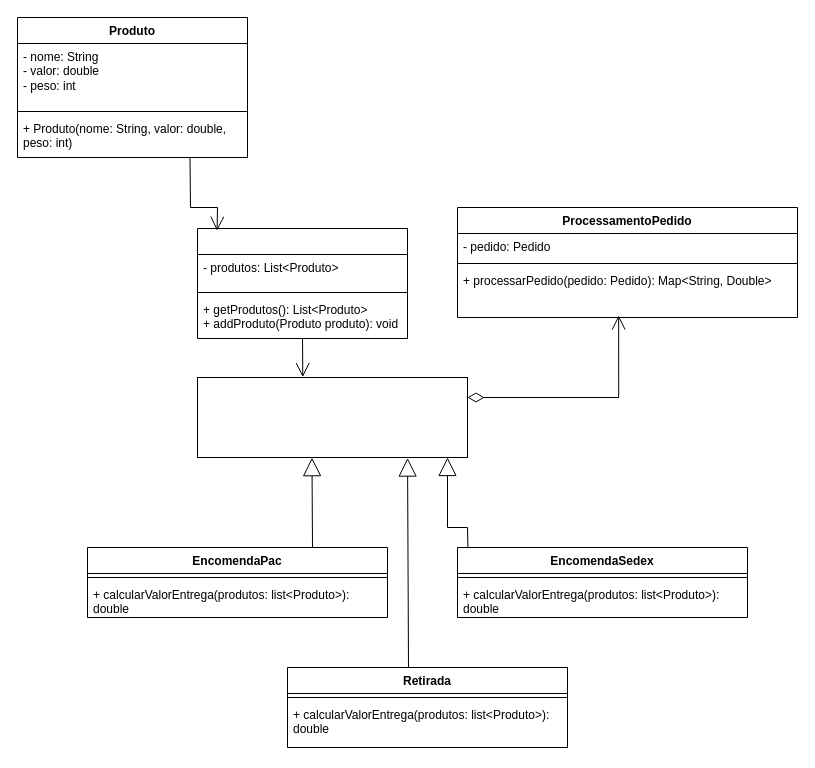
This 815x768 diagram has some shape labels left out. Here are the shapes that lost their labels. From the top down, the box of each, then its label:
(196, 228, 408, 338): Pedido
(196, 376, 468, 458): <<Interface>> Entrega + calcularValorEntrega(produtos: list<Produto>): double
